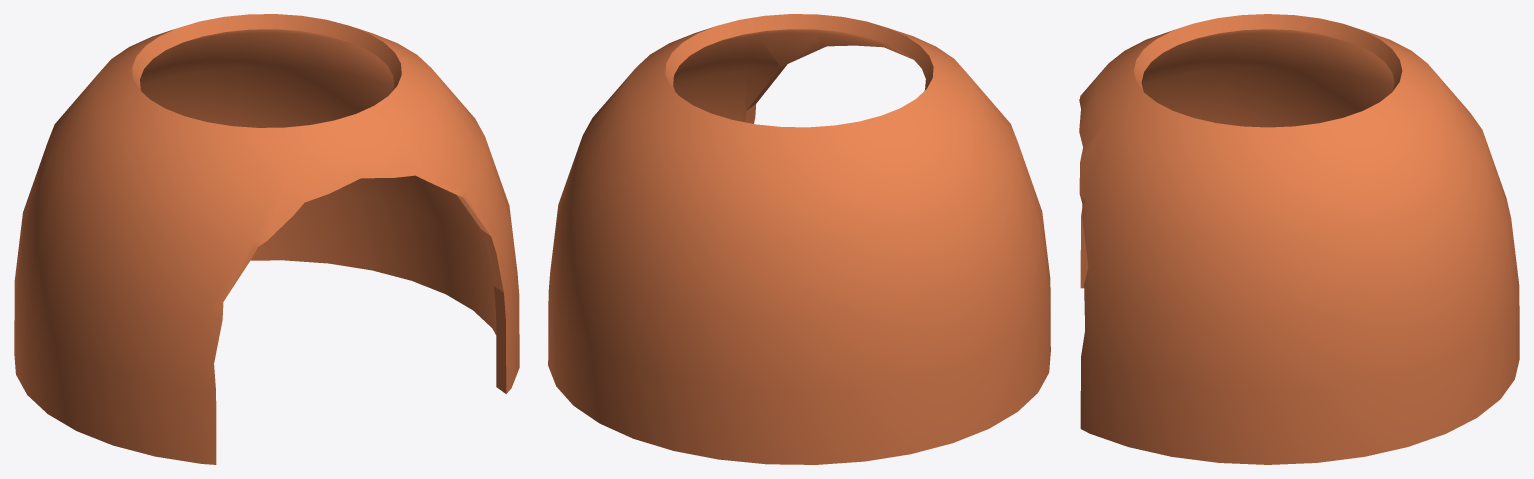
File: home_mesh.glb
3 views of the same model, side by side, from view 1: azimuth 30°, elevation 25°; view 2: azimuth 150°, elevation 25°; view 3: azimuth 270°, elevation 25° (orthographic).
Visible parts, largest first — view 1: home_mesh; view 2: home_mesh; view 3: home_mesh.
Boxes of the visible parts, x1,y1,x2,y2 form: home_mesh: [14, 14, 519, 464]; home_mesh: [548, 14, 1050, 464]; home_mesh: [1079, 14, 1519, 464].
Size of the model in its own units: 0.9913 by 0.6256 by 0.8676.
